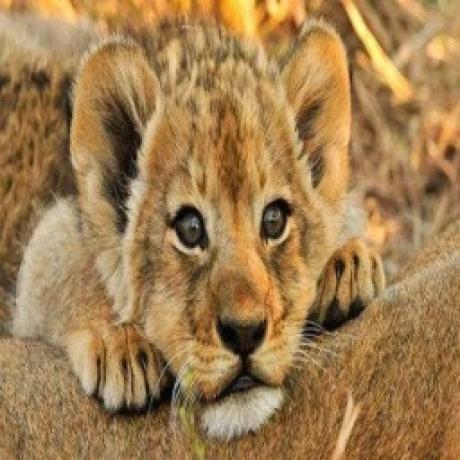Lion: (0, 19, 385, 439)
